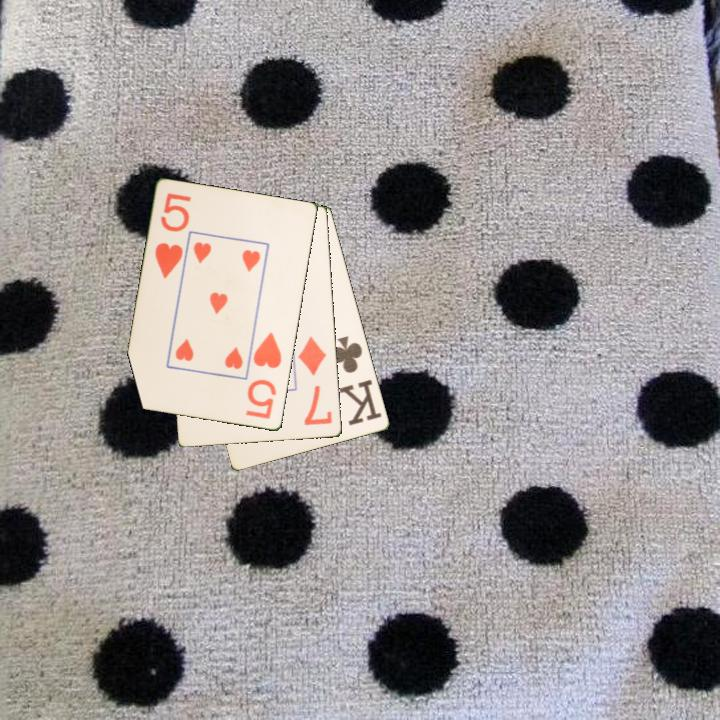5h: (242, 329, 285, 422), (152, 190, 194, 282)
7d: (295, 333, 335, 429)
Kc: (327, 332, 385, 429)
